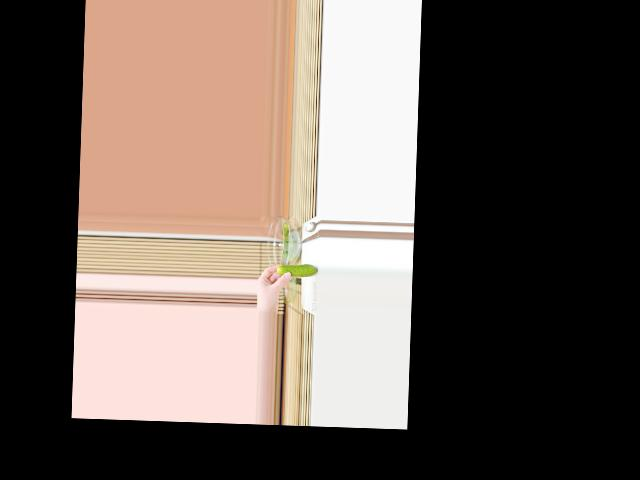cucumber: (276, 263, 317, 277)
